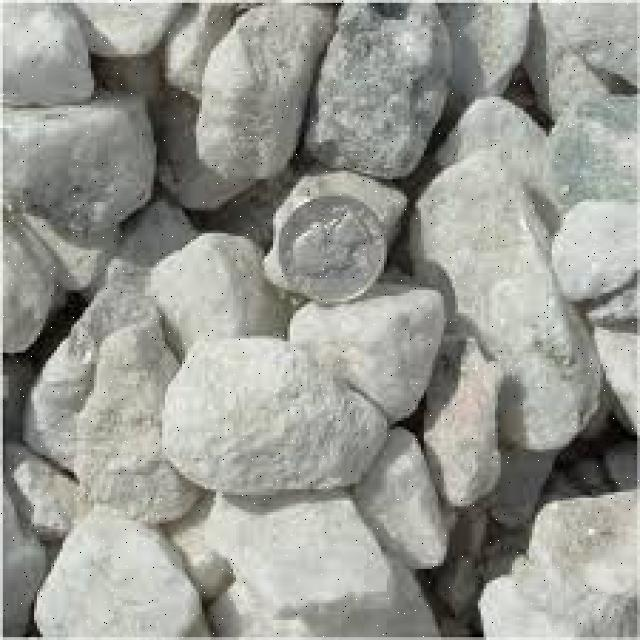Metamorphic: (3, 6, 634, 634)
